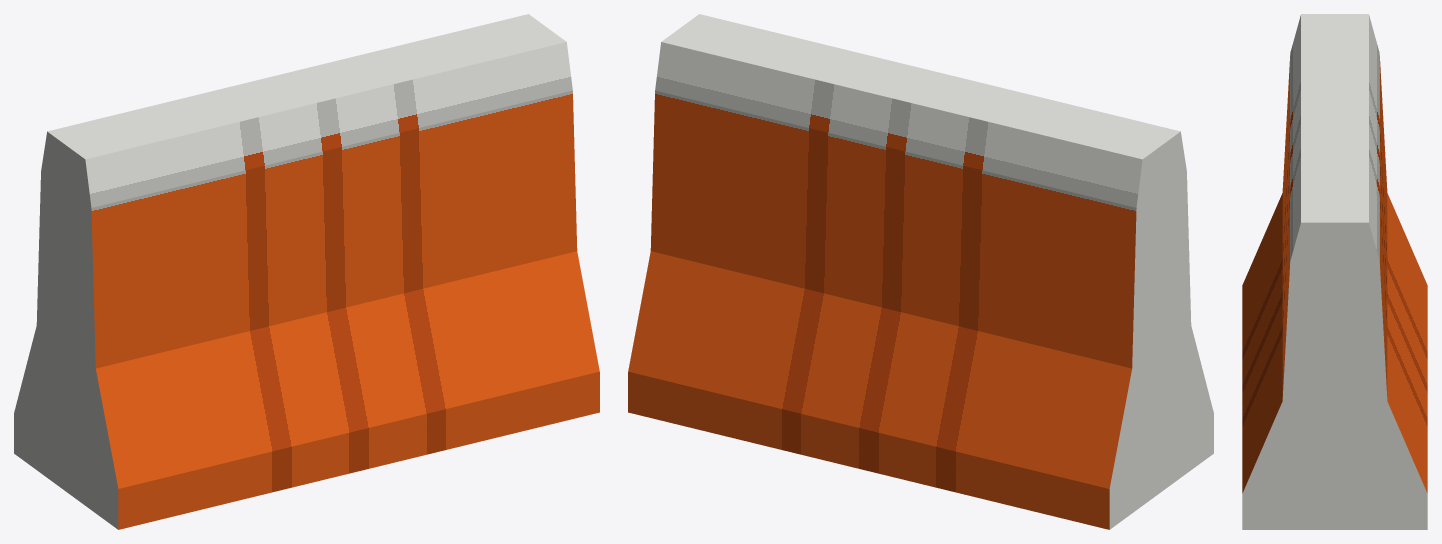
File: workzone_channelizing_wall_inv.obj
3 views of the same model, side by side, from view 1: azimuth 30°, elevation 25°; view 2: azimuth 150°, elevation 25°; view 3: azimuth 270°, elevation 25° (orthographic). The views are drawn at different scales.
Visible parts, largest first — view 1: workzone_channelizing_wall_inv; view 2: workzone_channelizing_wall_inv; view 3: workzone_channelizing_wall_inv.
Boxes of the visible parts, x1,y1,x2,y2 form: workzone_channelizing_wall_inv: [14, 14, 599, 529]; workzone_channelizing_wall_inv: [628, 14, 1213, 529]; workzone_channelizing_wall_inv: [1242, 14, 1427, 529].
Size of the model in its own units: 1 by 0.6875 by 0.375.
